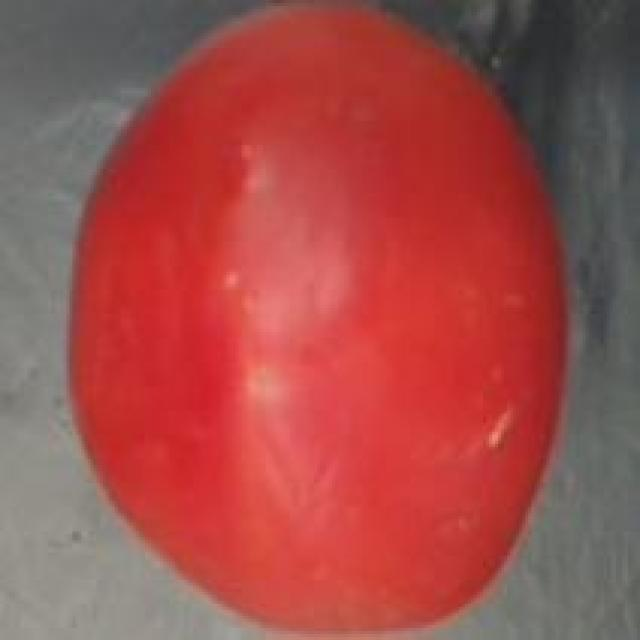overripe tomato: (48, 3, 589, 640)
